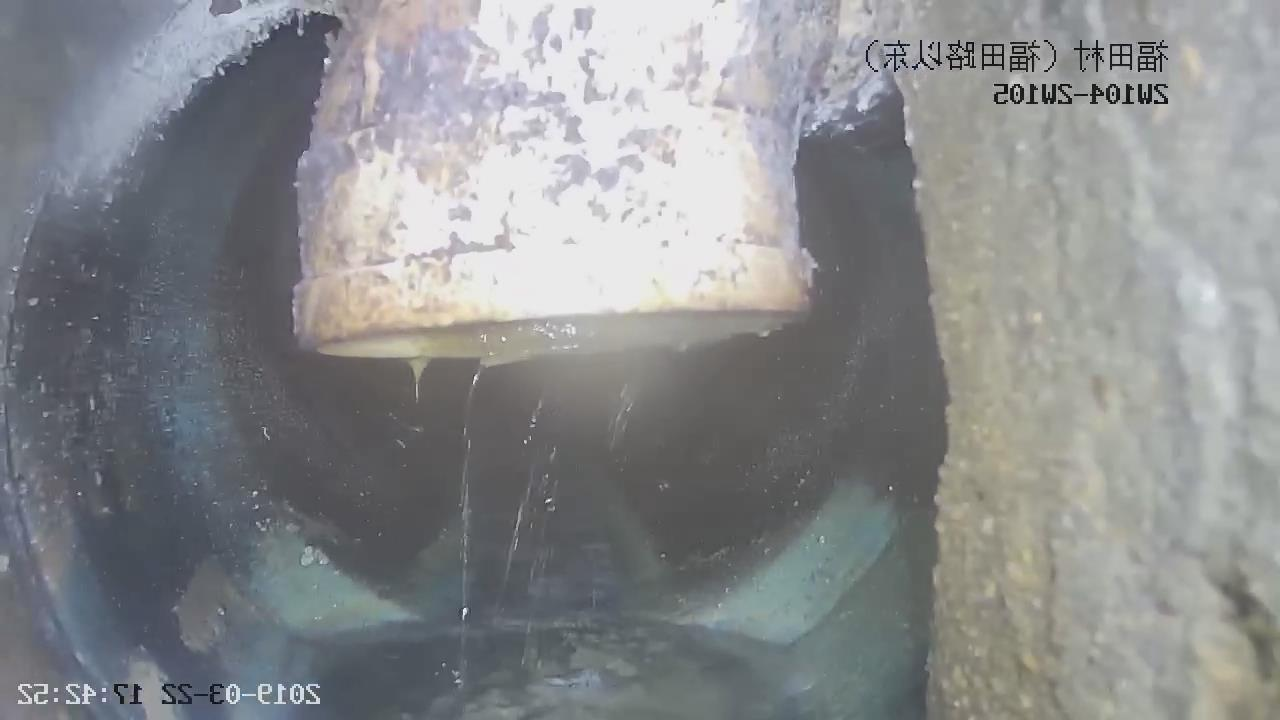ZGAJ: (293, 0, 851, 365)
